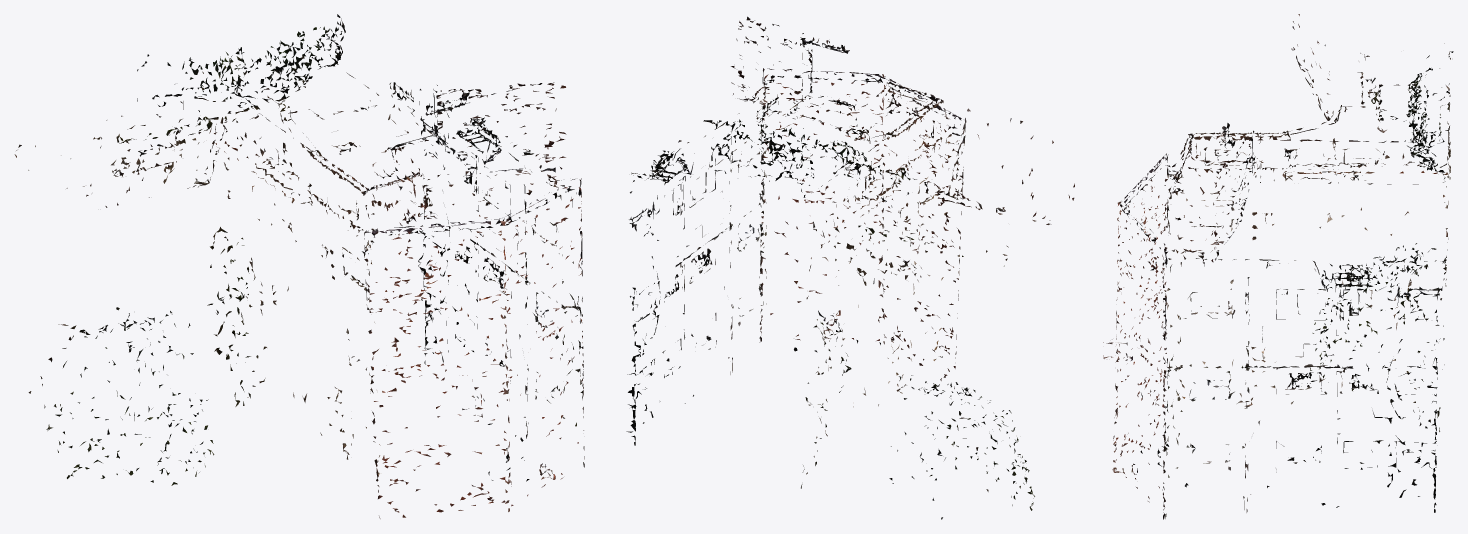
3 views of the same model, side by side, from view 1: azimuth 30°, elevation 25°; view 2: azimuth 150°, elevation 25°; view 3: azimuth 270°, elevation 25° (orthographic). The views are drawn at different scales.
Size of the model in its own units: 24.81 by 20.81 by 19.2.
1 material, 1 textured.
